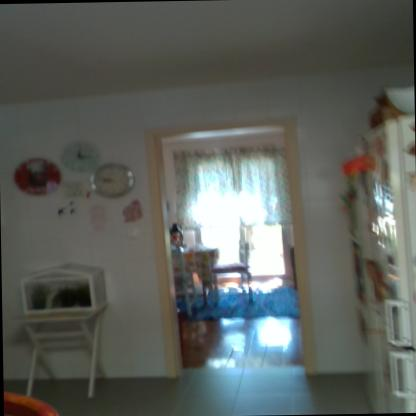open: (134, 110, 317, 384)
